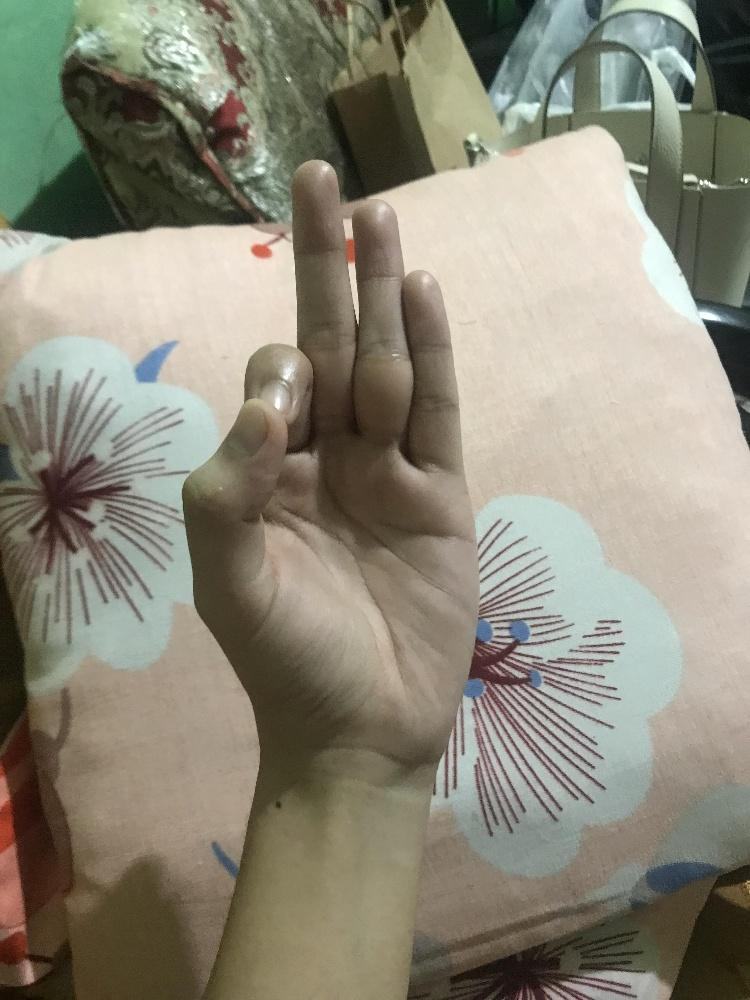f: (175, 156, 485, 773)
